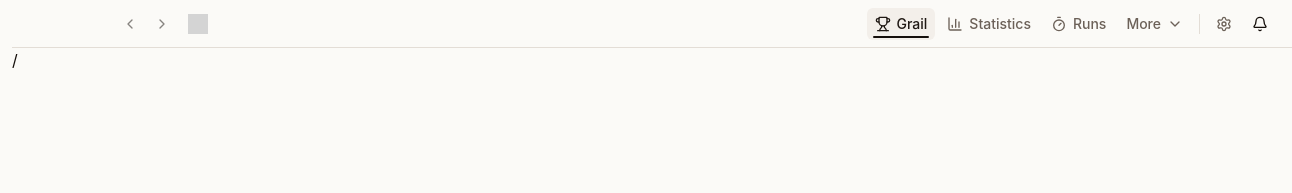
When TitleBar is rendered › If a destination in the More menu is chosen, Then it navigates there
Step 1. Click the button "More" → (1155, 24), box [1118,8,1191,40]
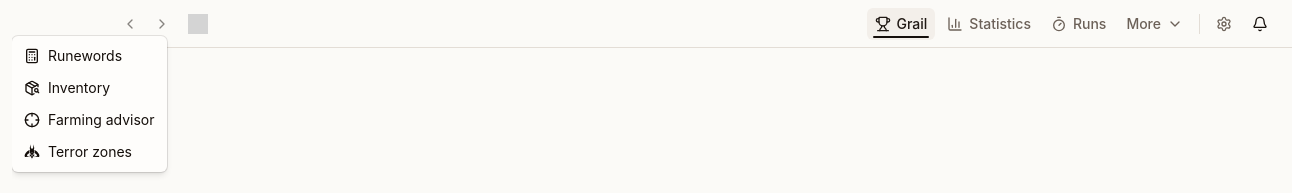
Step 2. Click the menu item "Farming advisor" → (89, 120), box [24,111,154,128]
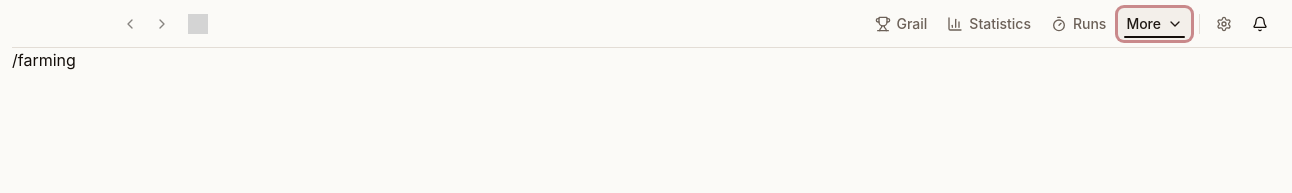
Check: the text with test id "location" reads "/farming", box [12,50,76,70]
